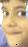without_mask: (1, 1, 28, 47)
